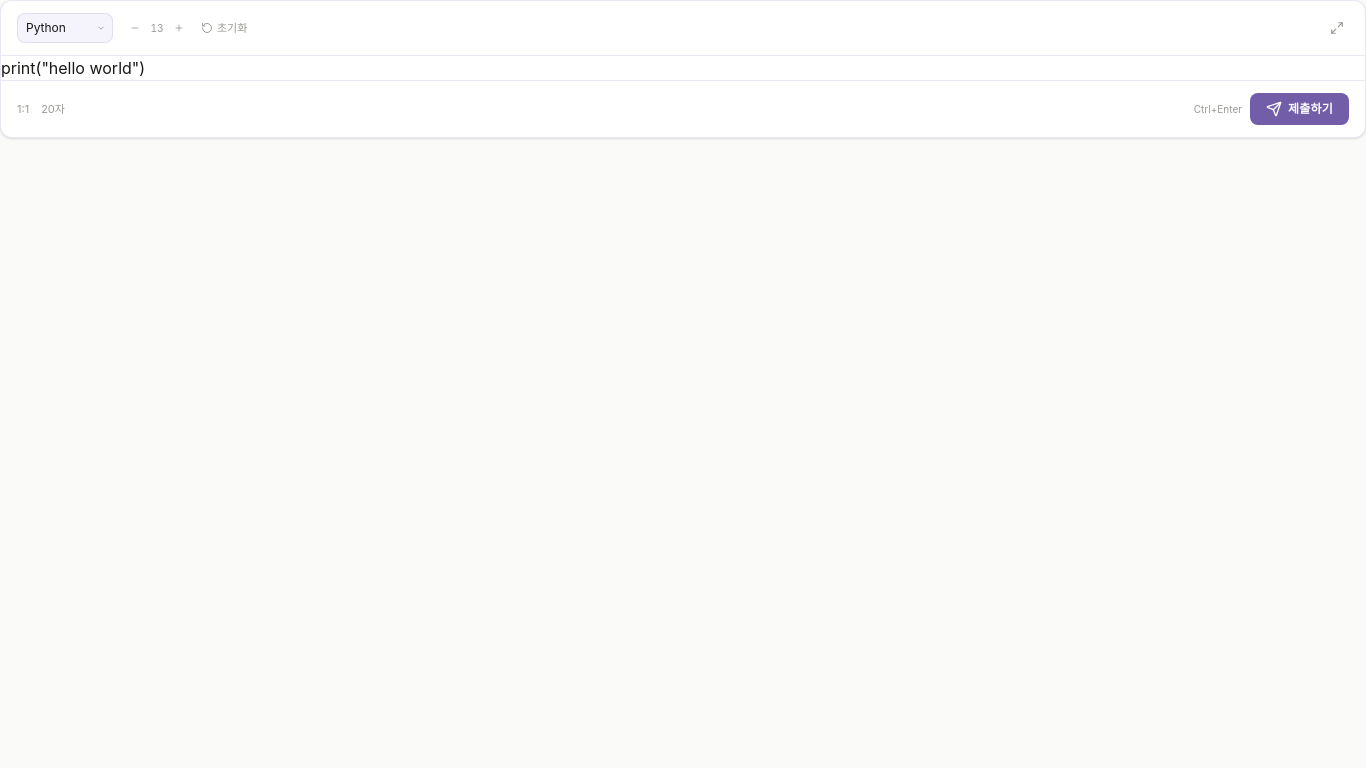
CodeEditor › switches to exit fullscreen button on fullscreen click
Click the button named "풀스크린".
click(1337, 28)  # box [1325,16,1349,40]
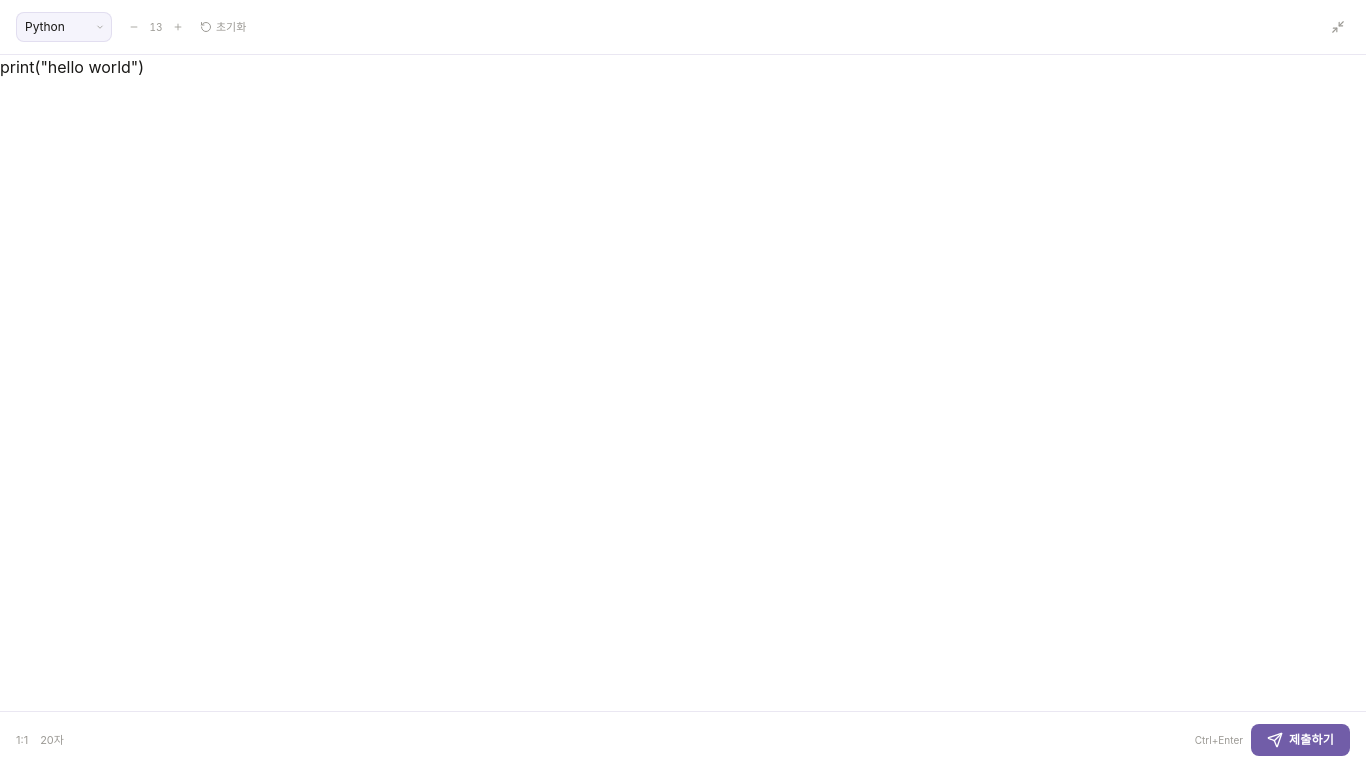
Expected: the button named "풀스크린 해제" is shown, [1326,15,1350,39]
